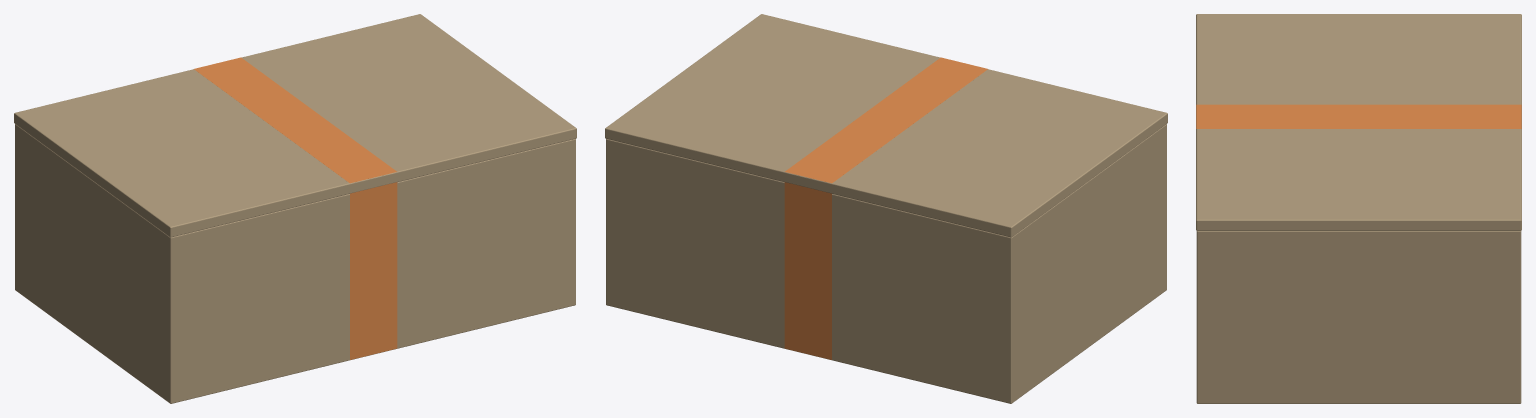
File: shipping.glb
3 renders of one model, left to right at view 1: azimuth 30°, elevation 25°; view 2: azimuth 150°, elevation 25°; view 3: azimuth 270°, elevation 25°, orthographic. The views are drawn at different scales.
Visible parts, largest first — view 1: shipping; view 2: shipping; view 3: shipping.
Boxes of the visible parts, x1=… form: shipping: x1=14, y1=14, x2=576, y2=403; shipping: x1=605, y1=14, x2=1167, y2=403; shipping: x1=1196, y1=14, x2=1521, y2=403.
Size of the model in its own units: 0.24 by 0.1 by 0.16.
